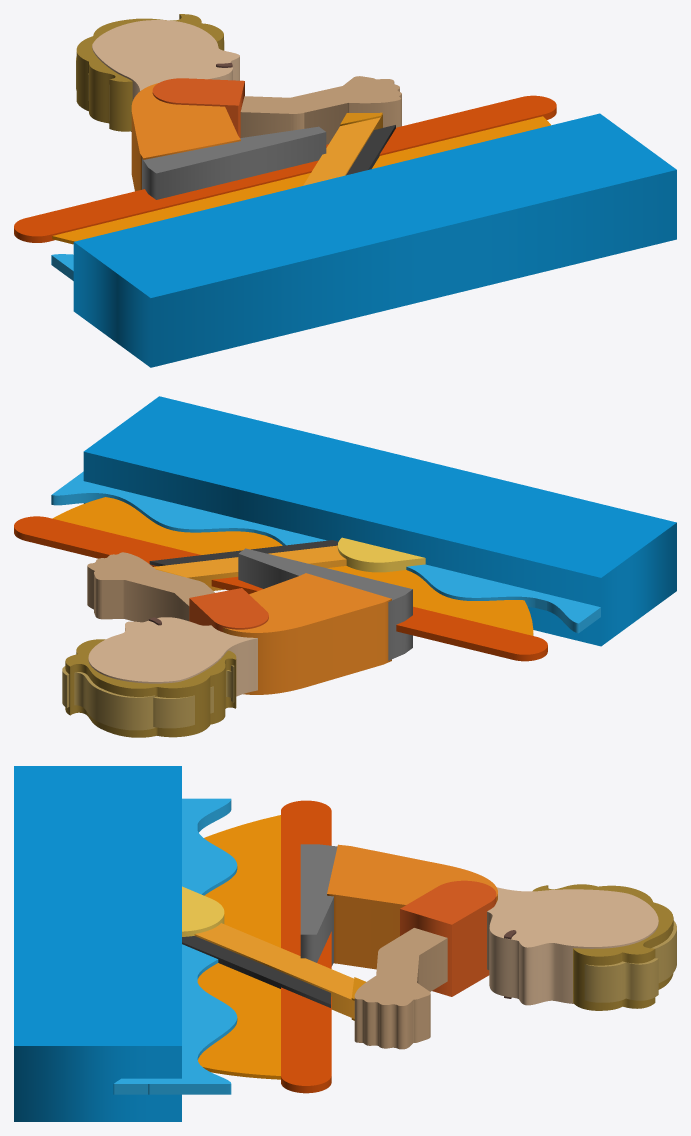
Rendered from emoji_u1f6a3_1f3fc.glb.
3 views of the same model, one above another, from view 1: azimuth 30°, elevation 25°; view 2: azimuth 150°, elevation 25°; view 3: azimuth 270°, elevation 25° (orthographic). The views are drawn at different scales.
Visible parts, largest first — view 1: emoji_u1f6a3_1f3fc; view 2: emoji_u1f6a3_1f3fc; view 3: emoji_u1f6a3_1f3fc.
Boxes of the visible parts, x1=… form: emoji_u1f6a3_1f3fc: x1=14, y1=14, x2=676, y2=367; emoji_u1f6a3_1f3fc: x1=14, y1=396, x2=676, y2=737; emoji_u1f6a3_1f3fc: x1=14, y1=766, x2=676, y2=1121.
Size of the model in its own units: 0.0339 by 0.0042 by 0.0332.
